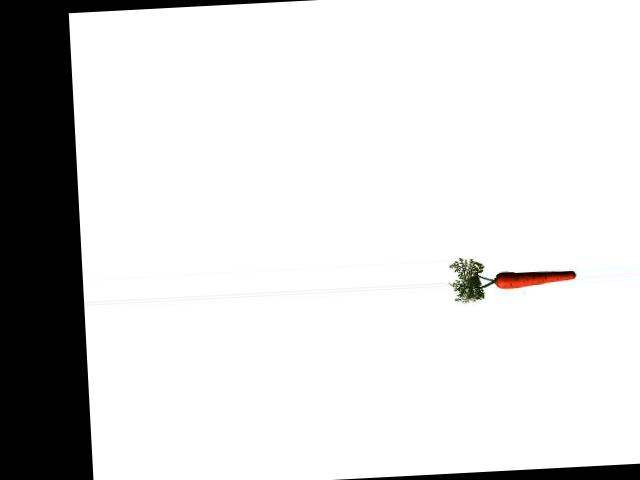carrot: (487, 263, 579, 293)
